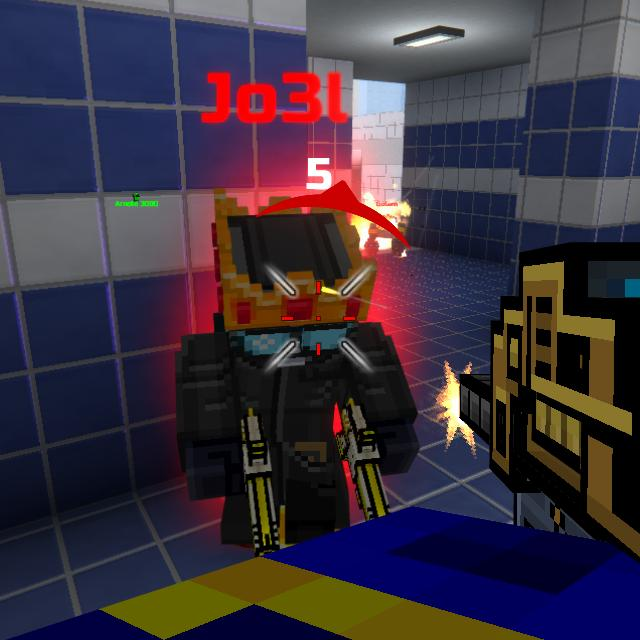Enemy: (175, 212, 421, 550)
